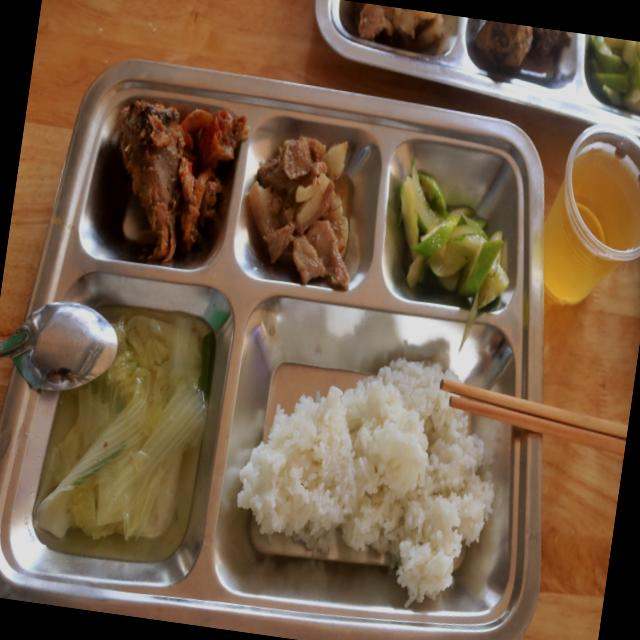canh cai: (34, 306, 216, 562)
com: (238, 359, 494, 603)
dua leo: (400, 161, 509, 350)
ga kho: (118, 101, 250, 263)
suon xao: (248, 137, 349, 287)
